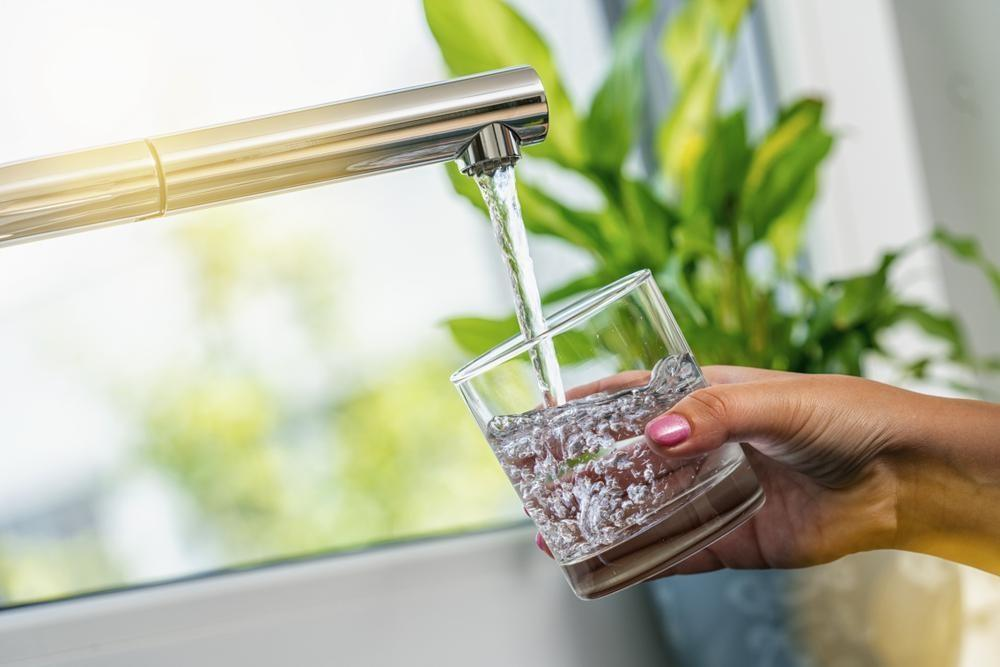glass-normal: (451, 266, 767, 601)
